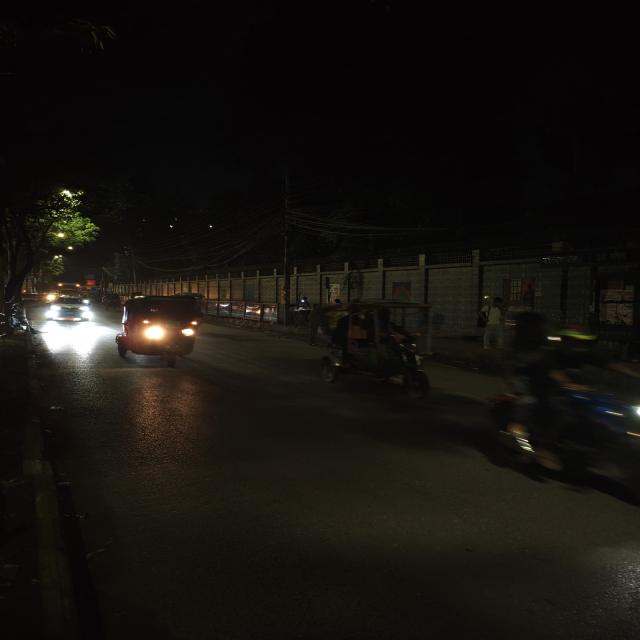car: (46, 294, 93, 324)
pedestrian: (476, 293, 511, 350)
rickshaw: (313, 298, 445, 400)
truck: (108, 293, 210, 367)
